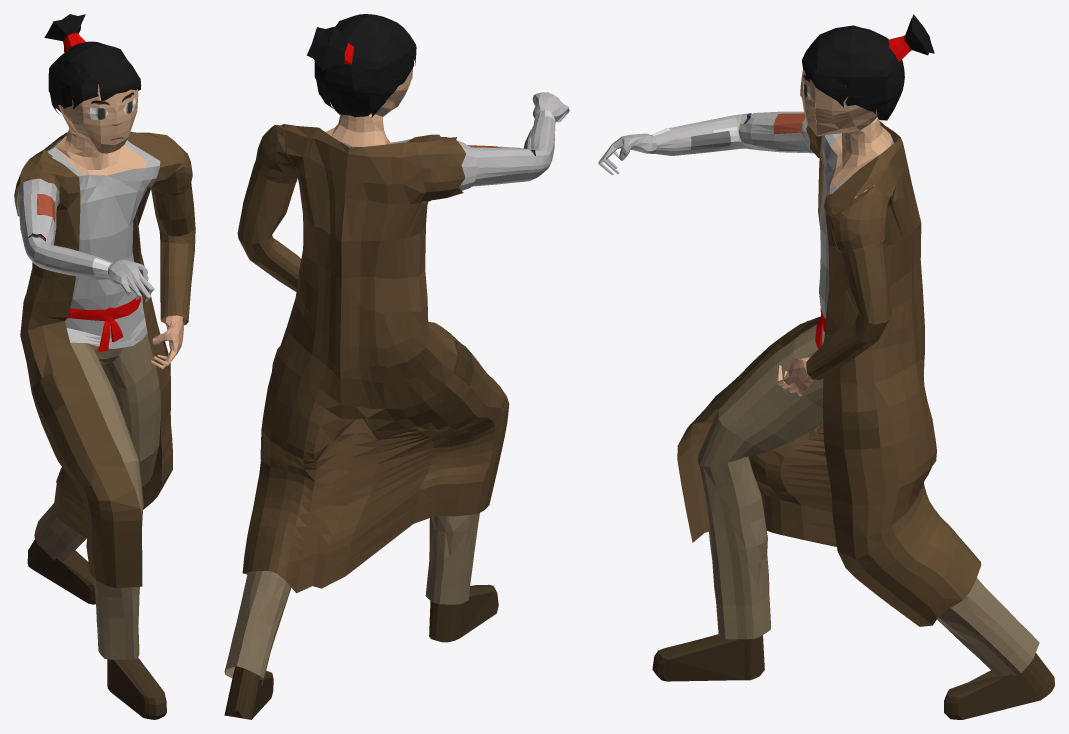
The model's file is Special_Attack_000005.obj.
The picture shows the model from 3 angles, left to right: view 1: azimuth 30°, elevation 25°; view 2: azimuth 150°, elevation 25°; view 3: azimuth 270°, elevation 25°; orthographic projection. The views are drawn at different scales.
Parts seen in each view (by area): view 1: Hair_Cube.004; view 2: Hair_Cube.004; view 3: Hair_Cube.004.
Part boxes in pixels (x1,y1,x2,y2): Hair_Cube.004: [14, 14, 195, 719]; Hair_Cube.004: [224, 14, 569, 719]; Hair_Cube.004: [598, 14, 1054, 719].
Size of the model in its own units: 1.4 by 3.68 by 2.26.
